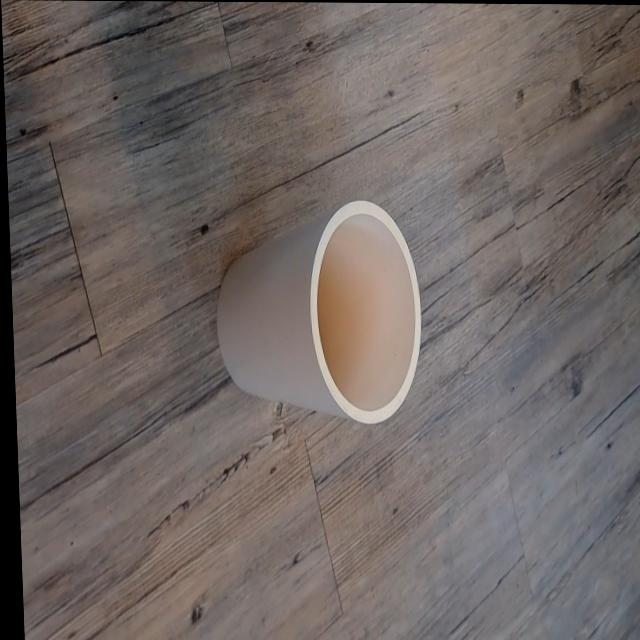CORAL: (191, 165, 446, 455)
